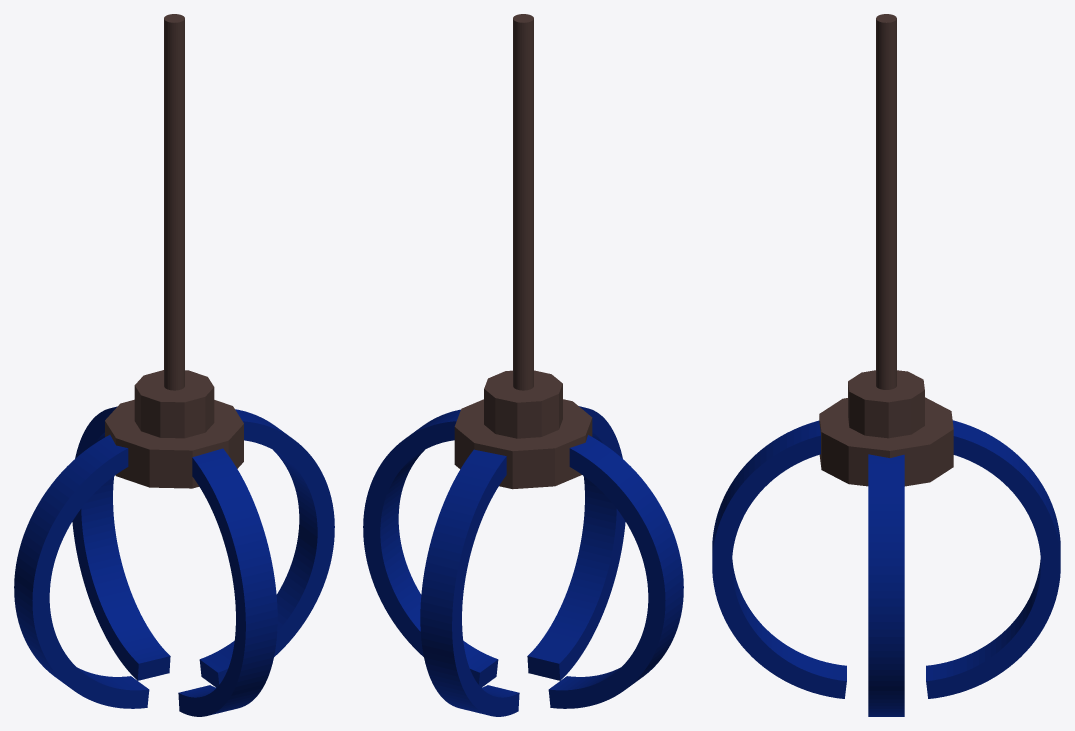
File: claw.glb
The picture shows the model from 3 angles, left to right: view 1: azimuth 30°, elevation 25°; view 2: azimuth 150°, elevation 25°; view 3: azimuth 270°, elevation 25°; orthographic projection.
Parts seen in each view (by area): view 1: Claw_Base, Cube.001, Cube.002, Cube.003, Cube; view 2: Claw_Base, Cube, Cube.002, Cube.003, Cube.001; view 3: Claw_Base, Cube.001, Cube, Cube.003.
Boxes of the visible parts, <box> form: Claw_Base: <box>105,14,243,488</box>; Cube.001: <box>178,448,277,716</box>; Cube.002: <box>14,435,149,708</box>; Cube.003: <box>199,409,334,687</box>; Cube: <box>72,406,170,680</box>; Claw_Base: <box>454,14,592,489</box>; Cube: <box>420,449,519,716</box>; Cube.002: <box>548,435,683,708</box>; Cube.003: <box>363,409,498,687</box>; Cube.001: <box>527,406,625,680</box>; Claw_Base: <box>819,14,953,486</box>; Cube.001: <box>712,420,846,698</box>; Cube: <box>926,420,1060,698</box>; Cube.003: <box>868,454,904,716</box>.
Size of the model in its own units: 1.67 by 3.55 by 1.67.
